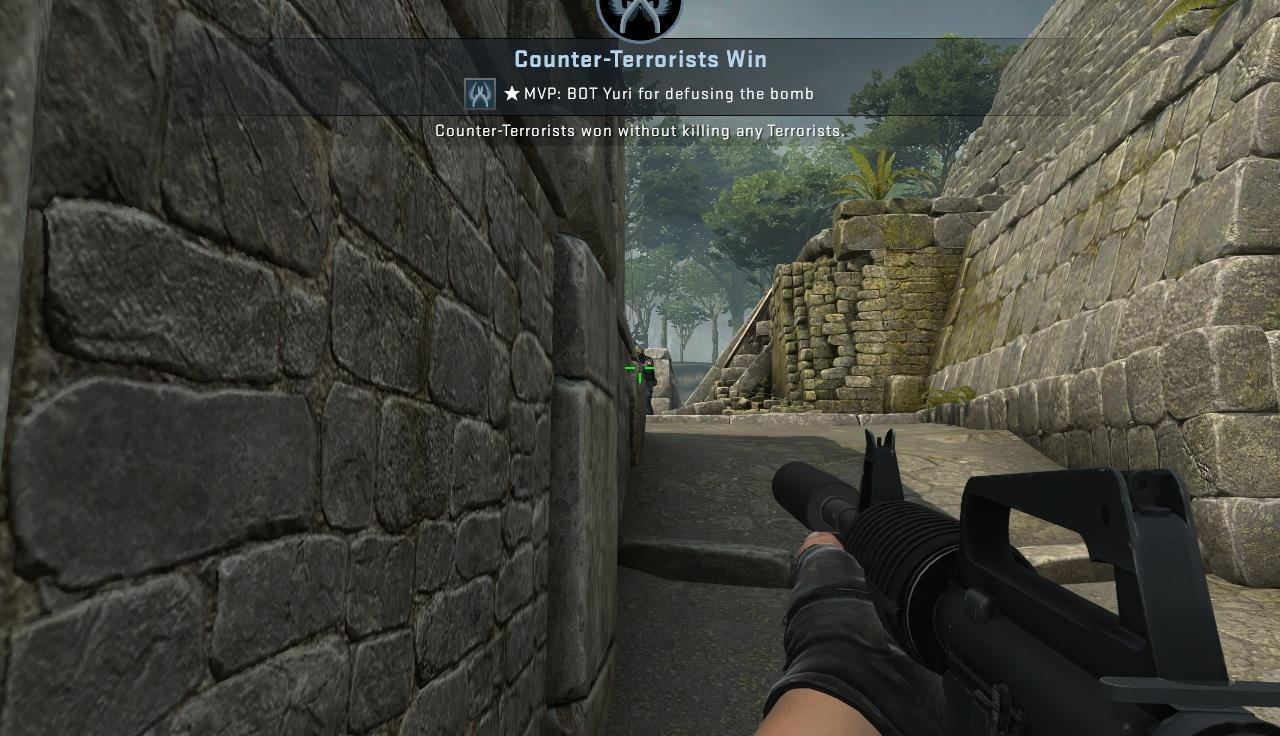ct: (636, 347, 655, 413)
cthead: (636, 346, 644, 357)
rifle: (777, 425, 1280, 731)
